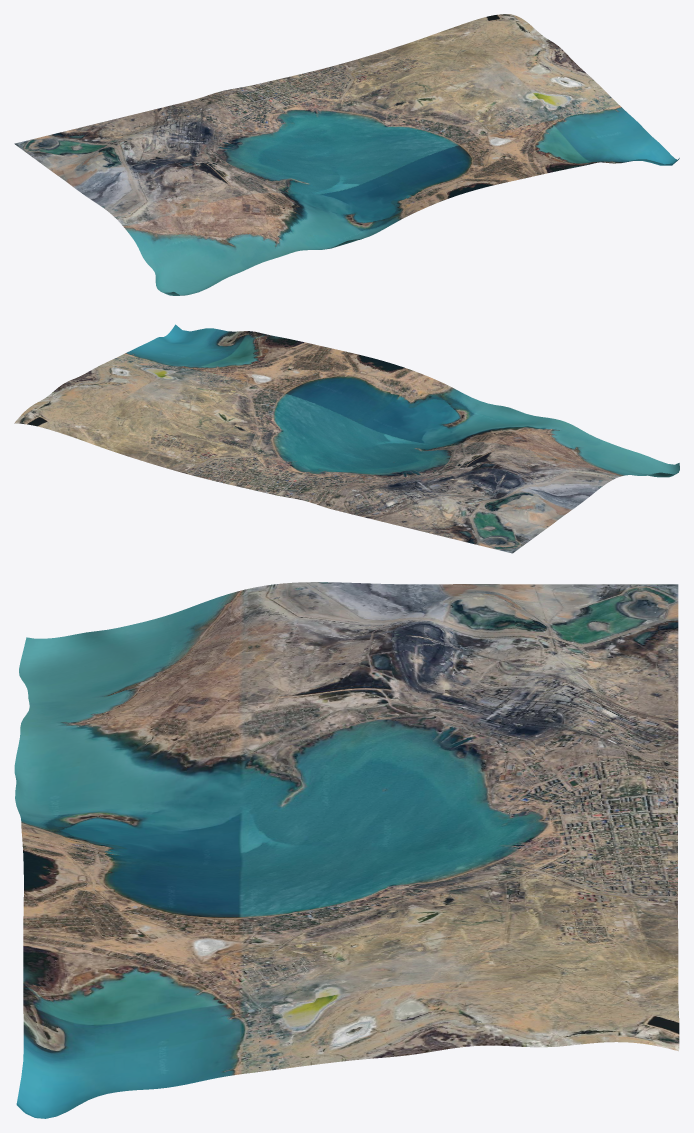
Rendered from balxah.glb.
3 views of the same model, one above another, from view 1: azimuth 30°, elevation 25°; view 2: azimuth 150°, elevation 25°; view 3: azimuth 270°, elevation 25° (orthographic). The views are drawn at different scales.
Parts seen in each view (by area): view 1: EXPORT_GOOGLE_SAT_WM; view 2: EXPORT_GOOGLE_SAT_WM; view 3: EXPORT_GOOGLE_SAT_WM.
Boxes of the visible parts, <box> form: EXPORT_GOOGLE_SAT_WM: <box>14,14,679,295</box>; EXPORT_GOOGLE_SAT_WM: <box>14,324,679,553</box>; EXPORT_GOOGLE_SAT_WM: <box>14,582,679,1118</box>.
Bounding box in the file's own units: 46.63 × 4.4 × 26.19.
Materials: 1 (1 with a texture image).
